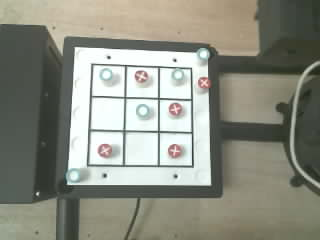blue circle: (136, 104, 149, 118), (66, 169, 80, 182), (99, 68, 112, 80), (197, 48, 209, 60), (172, 68, 183, 79)
board: (66, 47, 211, 185)
cells: (125, 132, 157, 165), (89, 132, 122, 164), (160, 133, 192, 165), (125, 99, 157, 130), (92, 65, 124, 96), (91, 98, 123, 129), (160, 100, 191, 131), (159, 68, 191, 98), (127, 67, 158, 97)
grid: (87, 64, 193, 167)
red cross: (97, 144, 111, 157), (168, 144, 181, 157), (135, 70, 148, 82), (169, 103, 182, 115), (198, 77, 211, 88)
